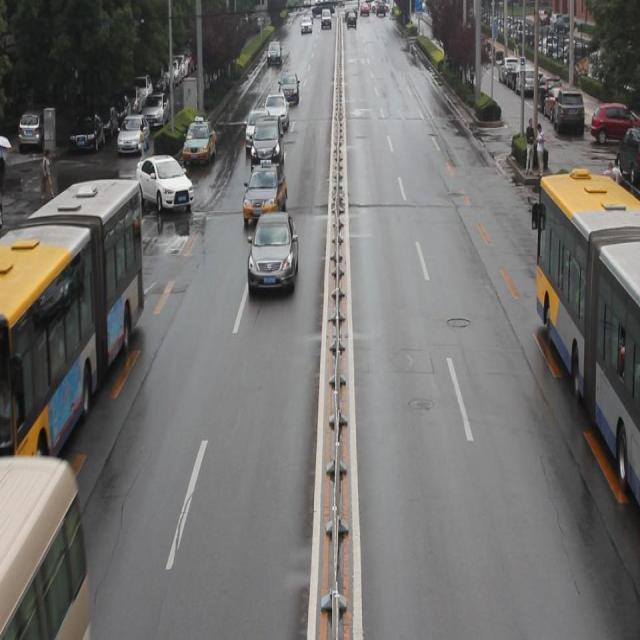car: (246, 211, 298, 295), (134, 156, 192, 215), (242, 163, 286, 228), (252, 118, 284, 176), (183, 118, 218, 170), (244, 108, 270, 155), (262, 93, 288, 135)
truck: (0, 457, 89, 633)
van: (1, 180, 144, 496), (531, 183, 640, 519)
